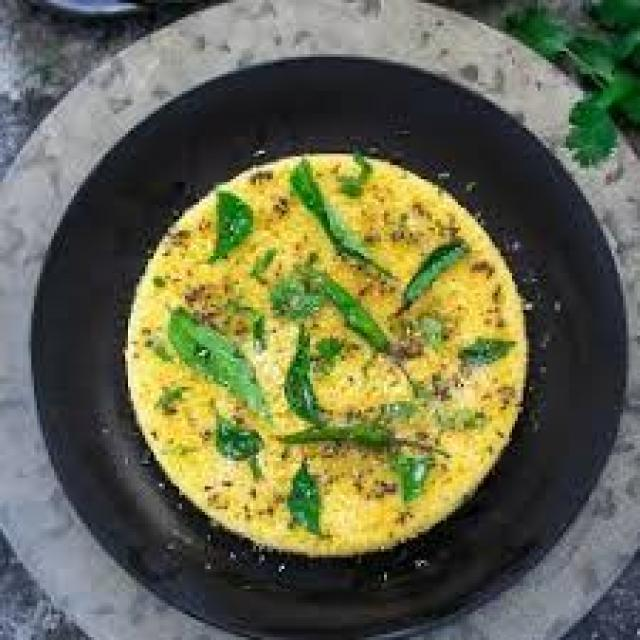DHOKLA: (125, 154, 523, 555)
